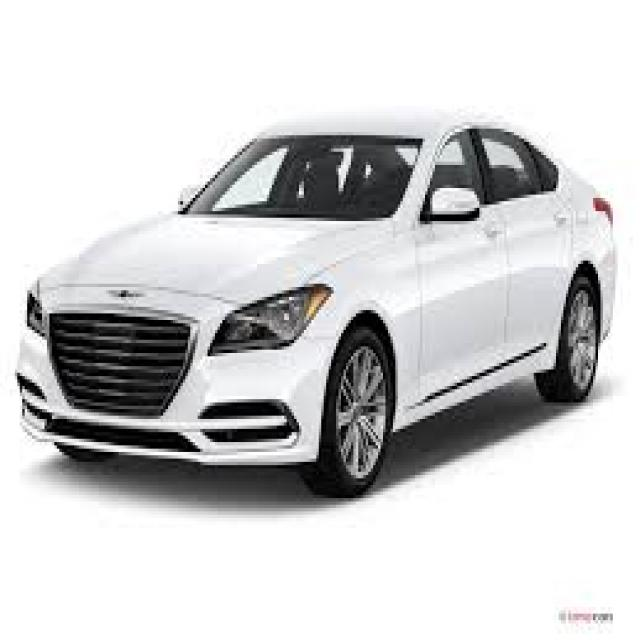Car: (13, 102, 618, 516)
